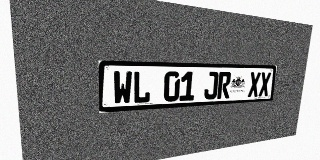0: (163, 71, 180, 102)
1: (179, 71, 195, 101)
J: (203, 72, 219, 100)
L: (132, 71, 151, 104)
R: (217, 72, 231, 99)
W: (113, 71, 132, 105)
X: (247, 72, 261, 97), (258, 72, 271, 97)
